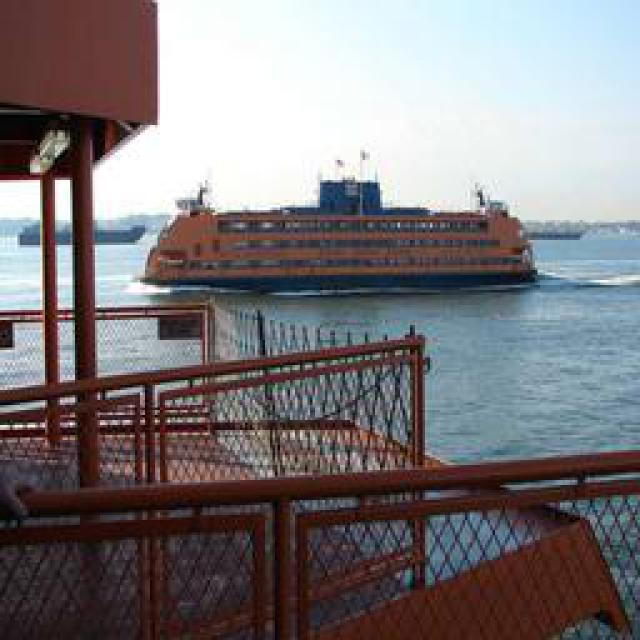Ship: (134, 187, 537, 290)
